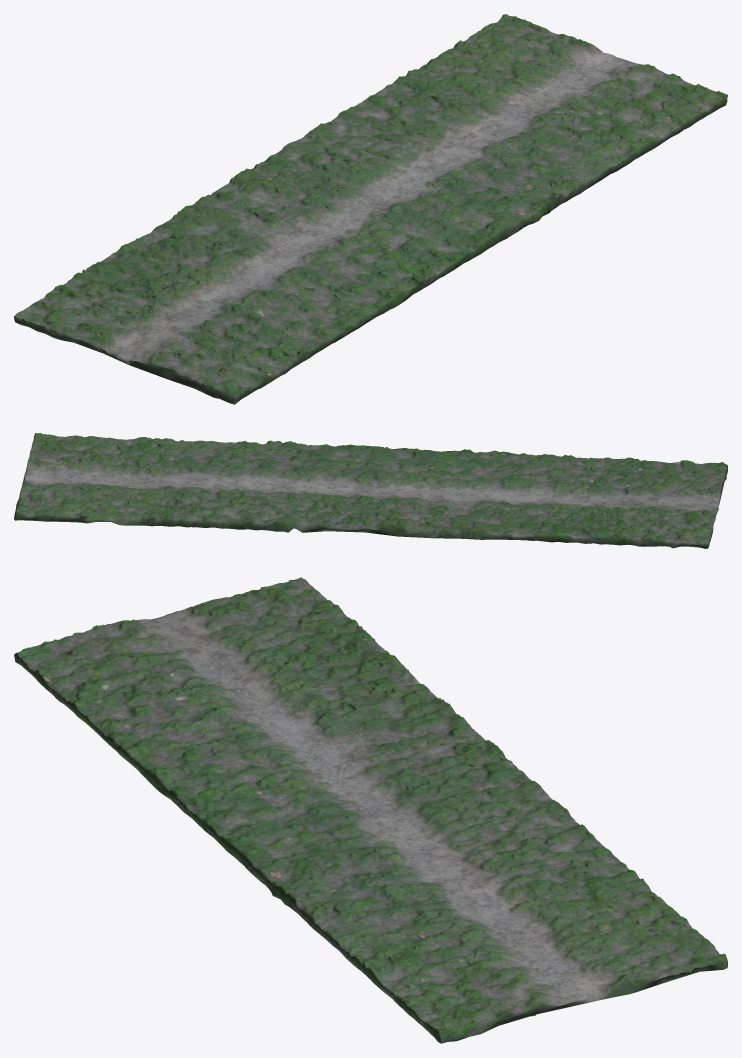
File: Dusty_foot_path_way_in_grass_garden.fbx
The picture shows the model from 3 angles, top to bottom: view 1: azimuth 30°, elevation 25°; view 2: azimuth 150°, elevation 25°; view 3: azimuth 270°, elevation 25°; orthographic projection. The views are drawn at different scales.
Visible parts, largest first — view 1: travnikova_cesta_obj_cleaner_materialmerger_gles; view 2: travnikova_cesta_obj_cleaner_materialmerger_gles; view 3: travnikova_cesta_obj_cleaner_materialmerger_gles.
Part boxes in pixels (left/top/right/bottom): travnikova_cesta_obj_cleaner_materialmerger_gles: left=14, top=14, right=727, bottom=404; travnikova_cesta_obj_cleaner_materialmerger_gles: left=14, top=433, right=727, bottom=548; travnikova_cesta_obj_cleaner_materialmerger_gles: left=14, top=577, right=727, bottom=1043.
Bounding box in the file's own units: 718 × 28.97 × 489.
Materials: 1 (1 with a texture image).
